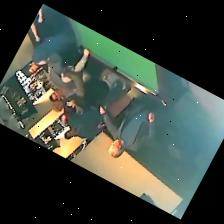person: (99, 100, 154, 157), (31, 22, 39, 40)
